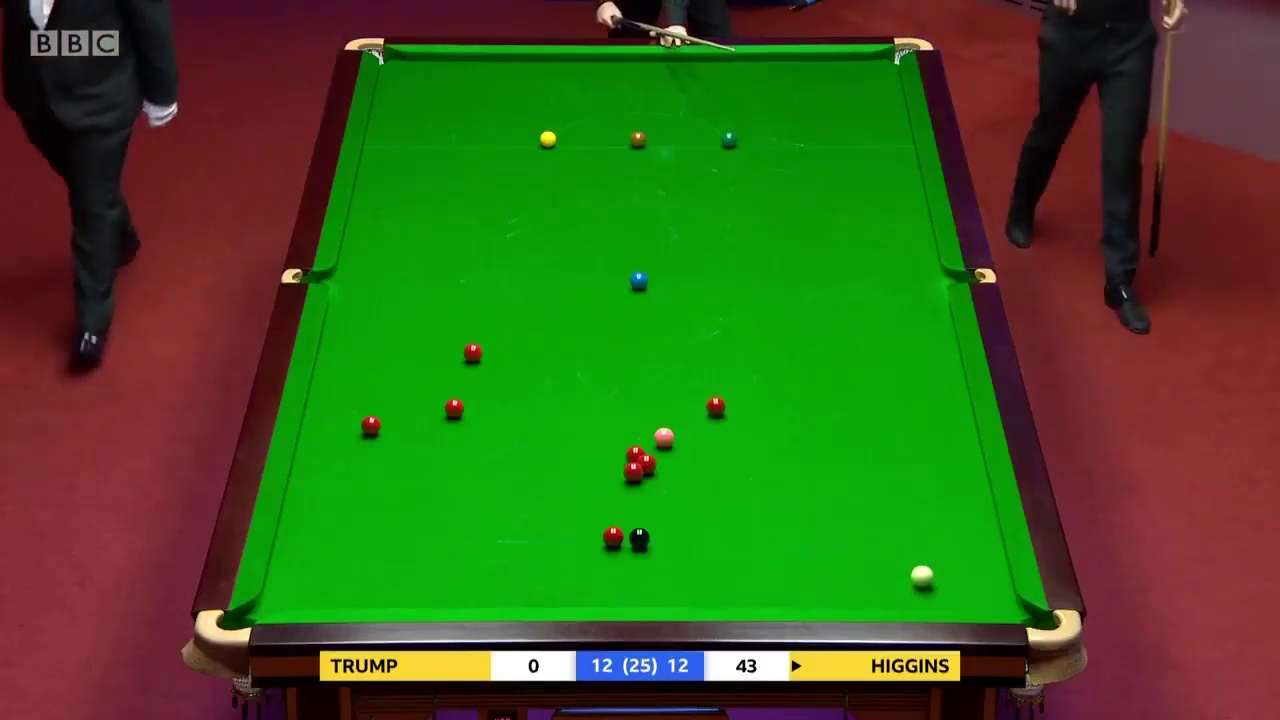ball: (909, 560, 935, 592), (605, 525, 625, 554), (535, 129, 558, 152), (628, 527, 651, 550), (360, 412, 380, 436), (443, 397, 466, 417), (654, 425, 673, 449), (621, 461, 643, 481), (626, 131, 649, 150), (462, 343, 484, 362), (708, 397, 728, 417), (628, 271, 649, 289), (721, 130, 740, 147)
